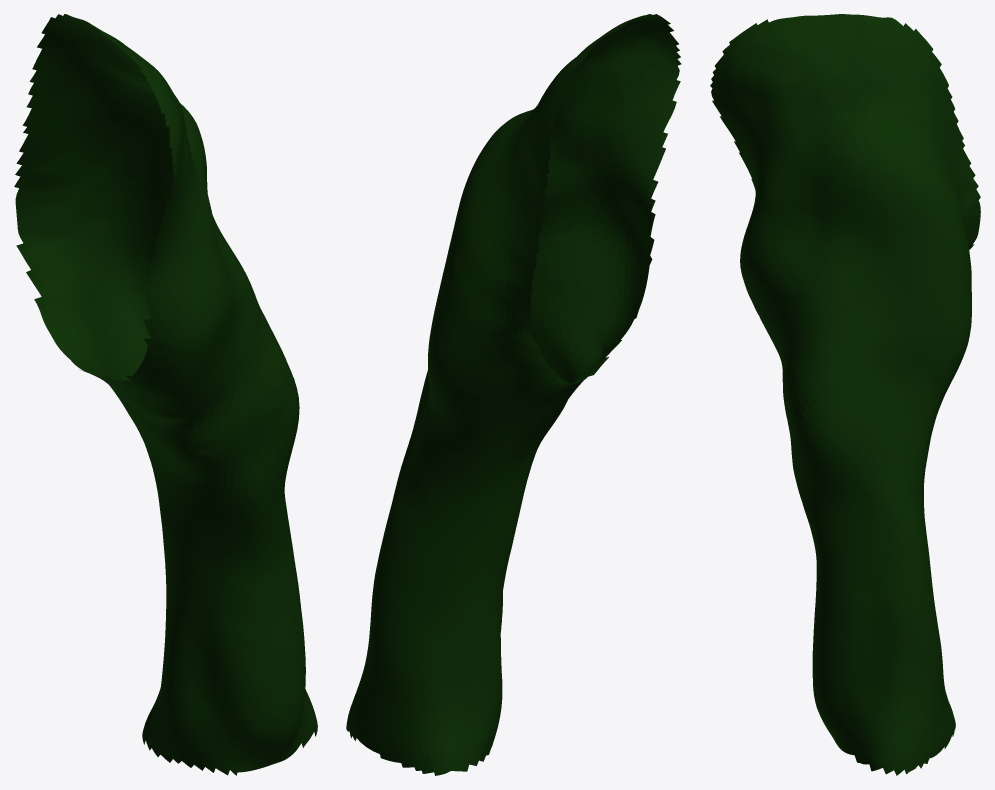
Rendered from upperB.obj.
The picture shows the model from 3 angles, left to right: view 1: azimuth 30°, elevation 25°; view 2: azimuth 150°, elevation 25°; view 3: azimuth 270°, elevation 25°; orthographic projection. The views are drawn at different scales.
Visible parts, largest first — view 1: alien_11:alien; view 2: alien_11:alien; view 3: alien_11:alien.
Boxes of the visible parts, x1,y1,x2,y2 form: alien_11:alien: [14, 14, 317, 775]; alien_11:alien: [346, 14, 681, 775]; alien_11:alien: [710, 14, 980, 775].
Bounding box in the file's own units: 0.6528 × 1.95 × 0.7238.
